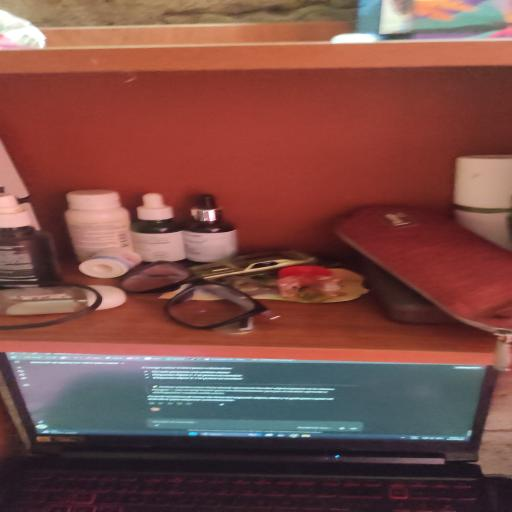Carrito: (191, 250, 316, 280)
